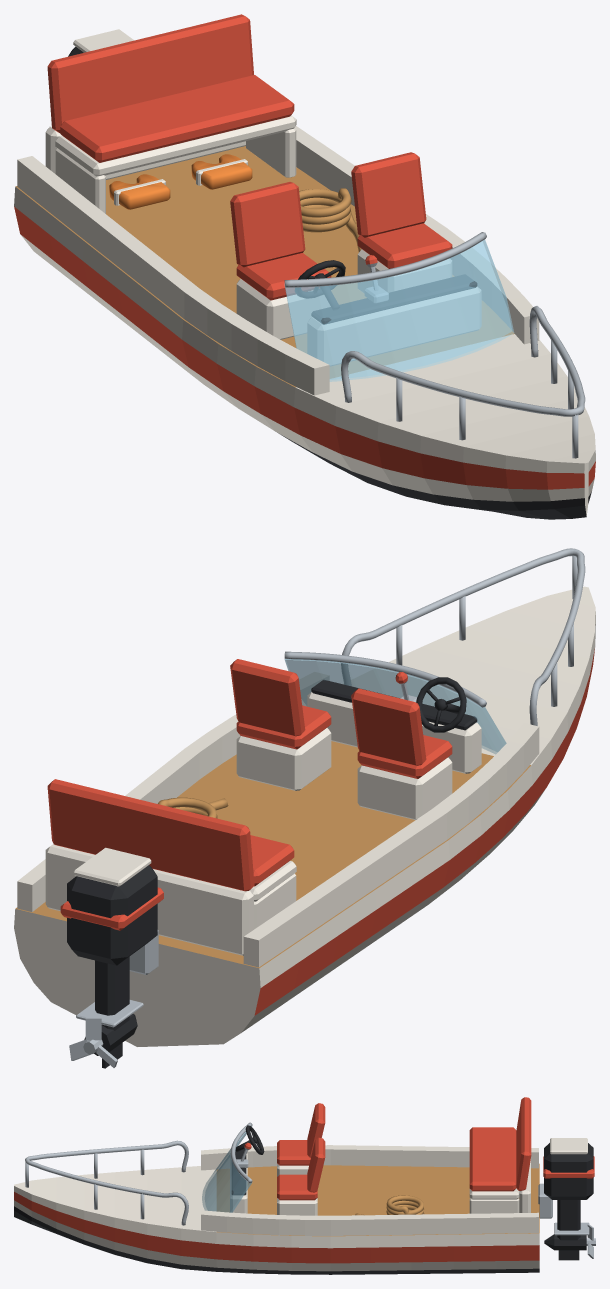
Rendered from low-poly-speedboat.glb.
3 renders of one model, top to bottom at view 1: azimuth 30°, elevation 25°; view 2: azimuth 150°, elevation 25°; view 3: azimuth 270°, elevation 25°, orthographic. The views are drawn at different scales.
Parts seen in each view (by area): view 1: Hull, Windshield, Bench_Back, Coaming_R, Bench_Cushion, Dash, Coaming_L, Seat_Passenger_Back, Seat_Driver_Back, Bow_Rail, Bench_Seat, Seat_Driver (+13 smaller); view 2: Hull, Bench_Back, Coaming_R, Bench_BackSupport, Motor_Cowling, Coaming_L, Windshield, Seat_Driver_Back, Seat_Passenger_Back, Seat_Passenger, Seat_Driver, Bow_Rail (+17 smaller); view 3: Hull, Coaming_L, Coaming_R, Bench_Cushion, Motor_Cowling, Bow_Rail, Windshield, Bench_Back, Seat_Passenger_Cushion, Motor_Leg, Seat_Driver_Cushion, Bench_Side_L (+16 smaller).
Boxes of the visible parts, left/top/right/bottom form: Hull: left=14, top=146, right=595, bottom=519; Windshield: left=285, top=239, right=514, bottom=381; Bench_Back: left=47, top=14, right=253, bottom=132; Coaming_R: left=17, top=156, right=329, bottom=395; Bench_Cushion: left=60, top=75, right=294, bottom=162; Dash: left=307, top=287, right=481, bottom=366; Coaming_L: left=294, top=126, right=539, bottom=344; Seat_Passenger_Back: left=351, top=152, right=426, bottom=237; Seat_Driver_Back: left=230, top=182, right=305, bottom=267; Bow_Rail: left=341, top=306, right=585, bottom=416; Bench_Seat: left=55, top=115, right=296, bottom=176; Seat_Driver: left=236, top=279, right=330, bottom=339; Hull: left=14, top=586, right=595, bottom=1046; Bench_Back: left=47, top=779, right=254, bottom=891; Coaming_R: left=243, top=723, right=539, bottom=967; Bench_BackSupport: left=45, top=844, right=253, bottom=955; Motor_Cowling: left=67, top=865, right=157, bottom=965; Coaming_L: left=17, top=672, right=329, bottom=911; Windshield: left=284, top=659, right=506, bottom=754; Seat_Driver_Back: left=351, top=688, right=426, bottom=765; Seat_Passenger_Back: left=230, top=659, right=305, bottom=736; Seat_Passenger: left=236, top=728, right=331, bottom=790; Seat_Driver: left=357, top=757, right=452, bottom=819; Bow_Rail: left=341, top=548, right=585, bottom=725; Hull: left=14, top=1163, right=539, bottom=1274; Coaming_L: left=201, top=1210, right=538, bottom=1235; Coaming_R: left=201, top=1145, right=538, bottom=1170; Bench_Cushion: left=469, top=1127, right=516, bottom=1191; Motor_Cowling: left=544, top=1143, right=593, bottom=1199; Bow_Rail: left=25, top=1140, right=188, bottom=1225; Windshield: left=202, top=1126, right=252, bottom=1212; Bench_Back: left=516, top=1097, right=531, bottom=1190; Seat_Passenger_Cushion: left=277, top=1174, right=317, bottom=1200; Motor_Leg: left=557, top=1200, right=580, bottom=1240; Seat_Driver_Cushion: left=277, top=1140, right=310, bottom=1165; Bench_Side_L: left=469, top=1198, right=519, bottom=1213.
Size of the model in its own units: 6.2 by 5.2 by 19.93.
